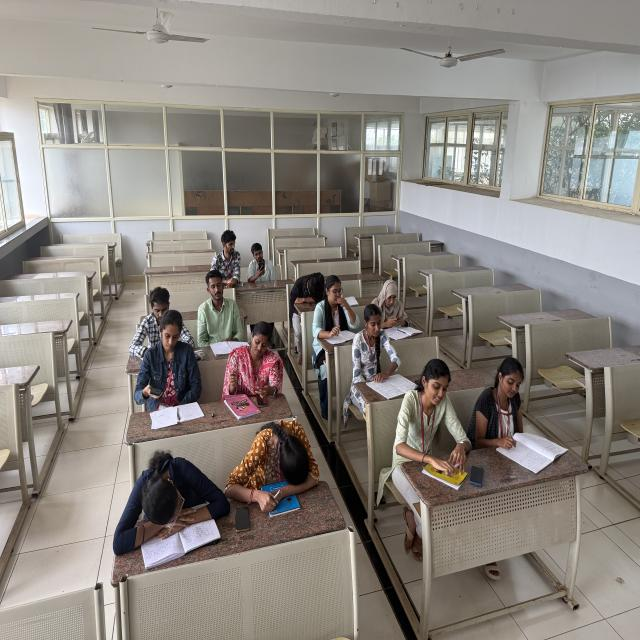Reading: (352, 304, 414, 399), (194, 263, 252, 355), (284, 258, 328, 332)
Sleeping: (98, 447, 234, 571), (229, 408, 331, 528)
Using Phone: (373, 256, 428, 336), (241, 231, 284, 292)
Writing: (464, 343, 578, 488)
